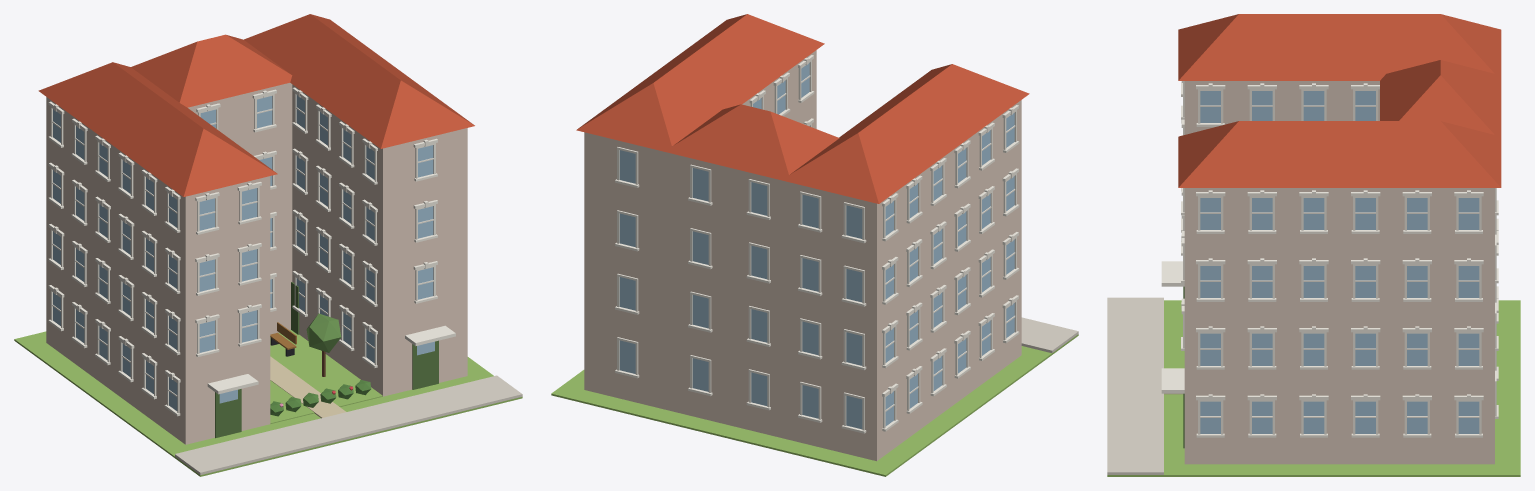
Rendered from Konut_avlulu_blok_1_Hafif.fbx.
The picture shows the model from 3 angles, left to right: view 1: azimuth 30°, elevation 25°; view 2: azimuth 150°, elevation 25°; view 3: azimuth 270°, elevation 25°; orthographic projection. The views are drawn at different scales.
Visible parts, largest first — view 1: Konut_avlulu_blok_1_Hafif; view 2: Konut_avlulu_blok_1_Hafif; view 3: Konut_avlulu_blok_1_Hafif.
Boxes of the visible parts, box(x1,y1,x2,y2) form: Konut_avlulu_blok_1_Hafif: box(14, 14, 522, 476); Konut_avlulu_blok_1_Hafif: box(551, 14, 1078, 476); Konut_avlulu_blok_1_Hafif: box(1107, 14, 1520, 476).
Bounding box in the file's own units: 16 × 13.76 × 16.
